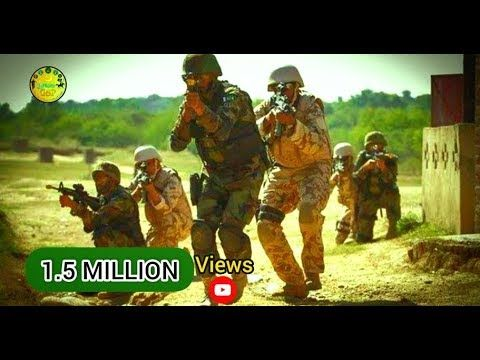gun: (44, 176, 104, 218), (126, 159, 160, 203), (266, 84, 297, 132), (358, 138, 395, 175), (176, 64, 202, 112)
uniform: (167, 59, 263, 289), (256, 65, 330, 283), (126, 140, 195, 254), (73, 155, 141, 248), (350, 132, 402, 237), (322, 136, 361, 250)
